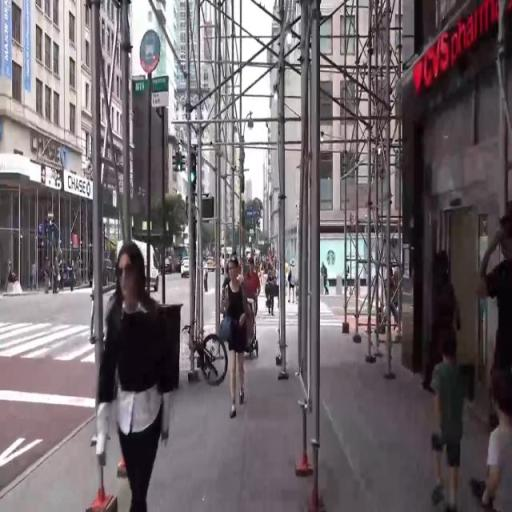person: (98, 234, 174, 512), (428, 330, 468, 512), (474, 209, 512, 400), (219, 252, 252, 428), (488, 368, 512, 512), (429, 251, 456, 344), (247, 258, 263, 356), (266, 270, 278, 315), (288, 257, 296, 308), (323, 259, 330, 296), (31, 261, 38, 296)
